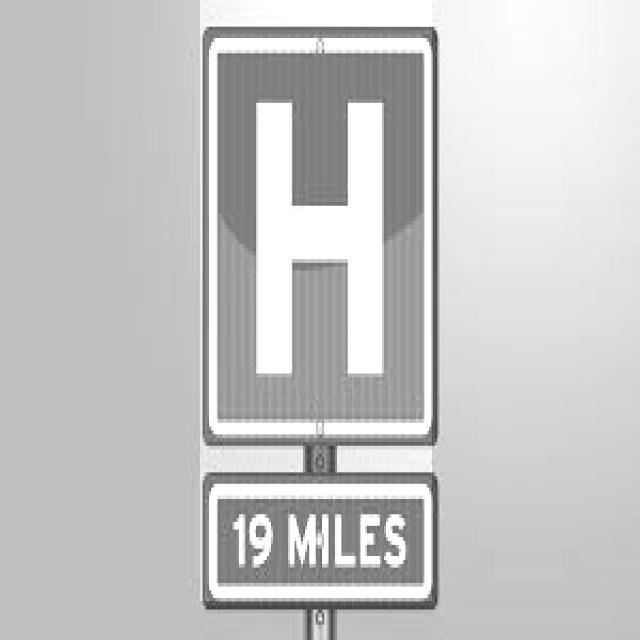hospital ahead: (194, 20, 443, 448)
